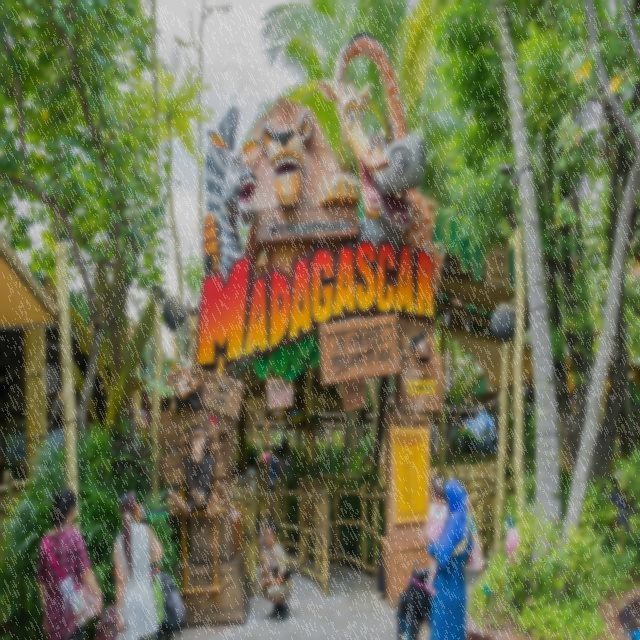pessoa: (34, 482, 104, 640), (428, 473, 486, 640), (112, 492, 164, 640), (255, 516, 293, 624), (418, 474, 451, 598), (266, 444, 282, 520), (280, 448, 292, 490), (276, 444, 284, 498), (245, 458, 258, 488), (279, 439, 288, 462), (262, 444, 272, 464), (238, 465, 246, 482), (259, 446, 265, 467)
